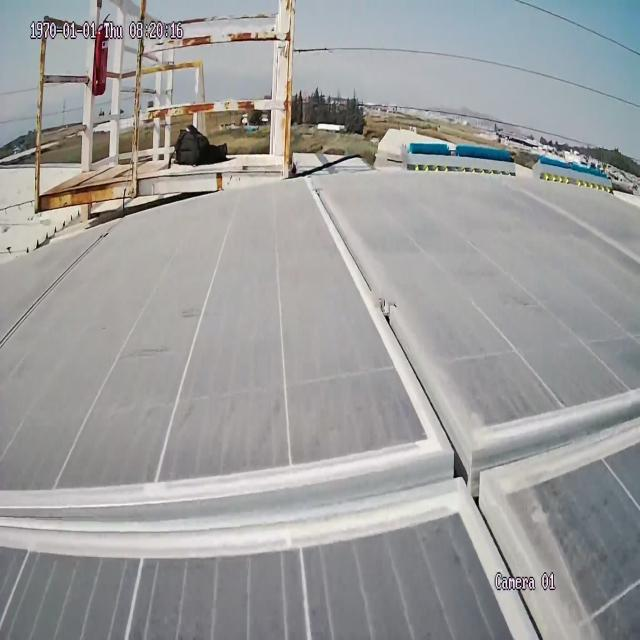interior panel: (0, 173, 640, 640)
